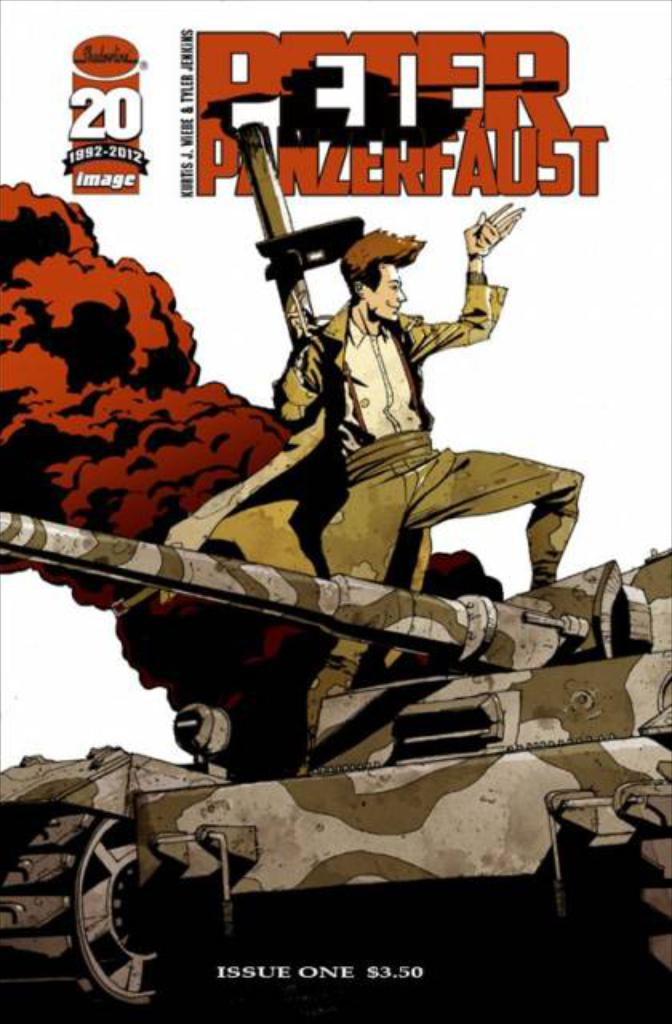Person: (162, 204, 585, 776)
